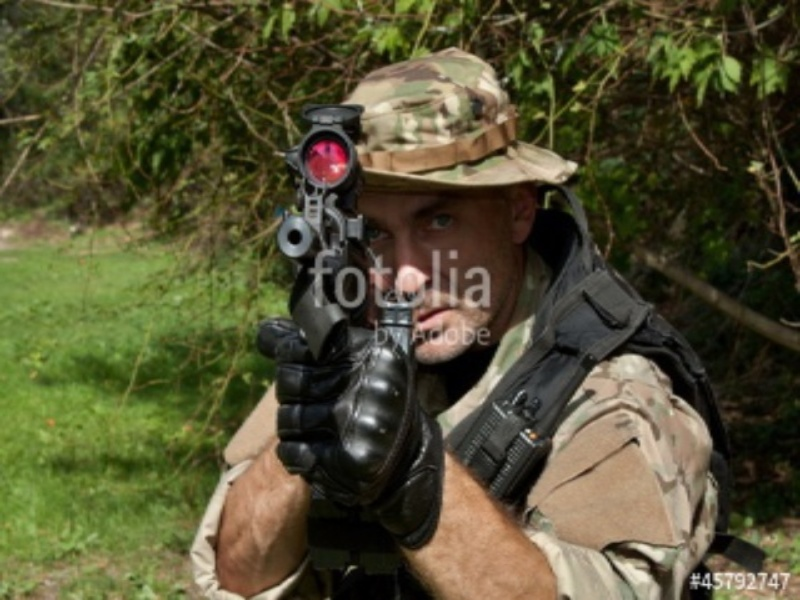person: (186, 46, 728, 600)
weapon: (276, 106, 411, 355)
